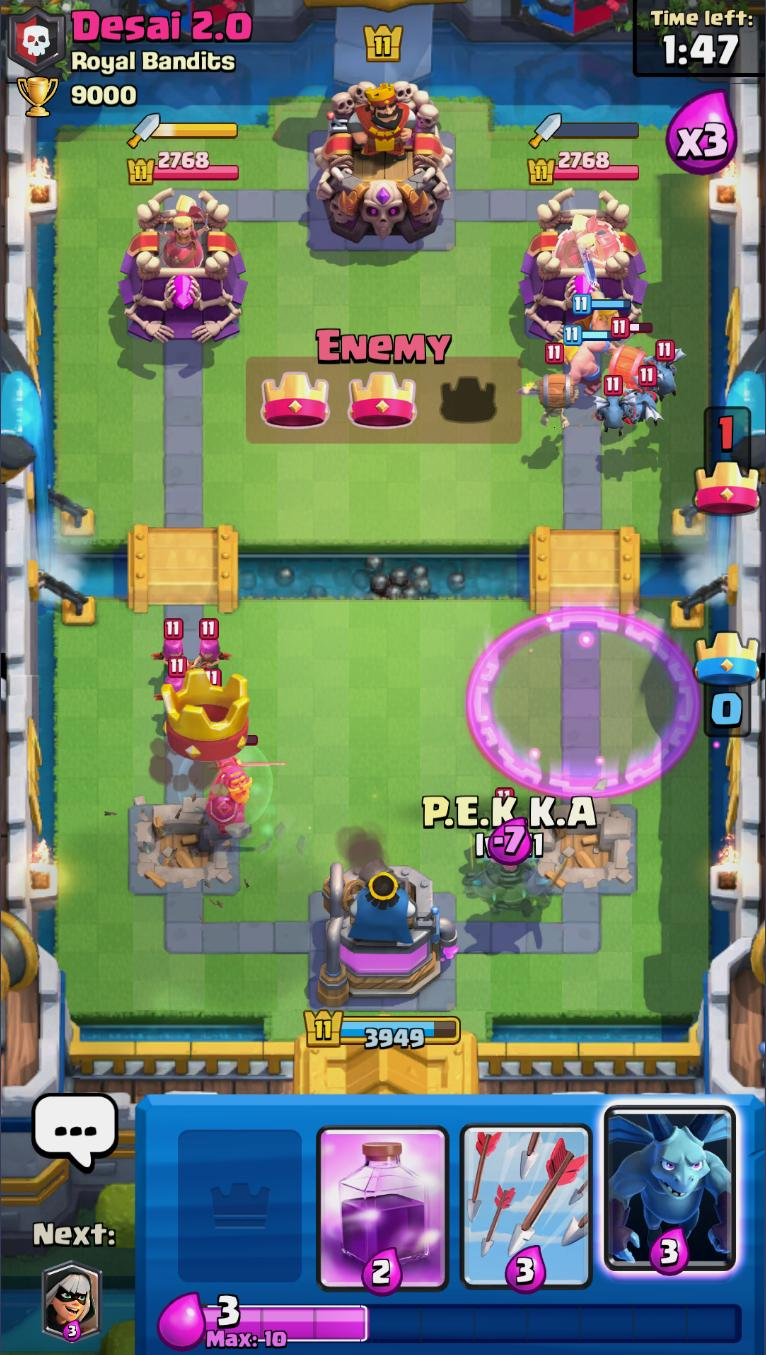Archer: (188, 617, 230, 676), (150, 619, 195, 670), (154, 656, 193, 709)
ArrowDeck: (455, 1096, 599, 1296)
BanditNext: (41, 1260, 103, 1344)
Daggers: (526, 109, 641, 150), (126, 111, 239, 148)
Elixir: (204, 1295, 745, 1350)
Empty: (165, 1096, 312, 1294)
EnemyTower: (516, 186, 650, 345), (118, 186, 247, 346)
EvoKnight: (202, 759, 287, 839)
KingTower: (311, 76, 455, 245)
Minion: (641, 339, 685, 403), (593, 373, 635, 436), (622, 366, 665, 426)
MinionsDeck: (596, 1096, 745, 1295)
MyBarbarian: (556, 324, 615, 396), (571, 294, 635, 334)
MyKingHP: (301, 1005, 463, 1051)
MyKingTower: (311, 860, 445, 1009)
MyPrincessTowerBrocken: (520, 794, 641, 900), (123, 796, 245, 898)
Rage: (466, 609, 701, 800)
RageDeck: (310, 1096, 456, 1296)
TowerPrincessHP: (124, 149, 241, 186), (525, 149, 640, 185)
WallBreakers: (523, 342, 581, 430), (607, 316, 654, 391)
